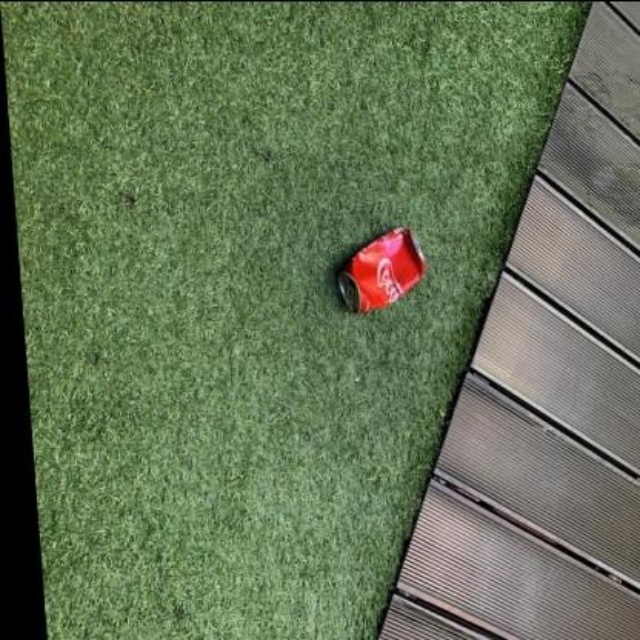trash: (337, 228, 425, 312)
